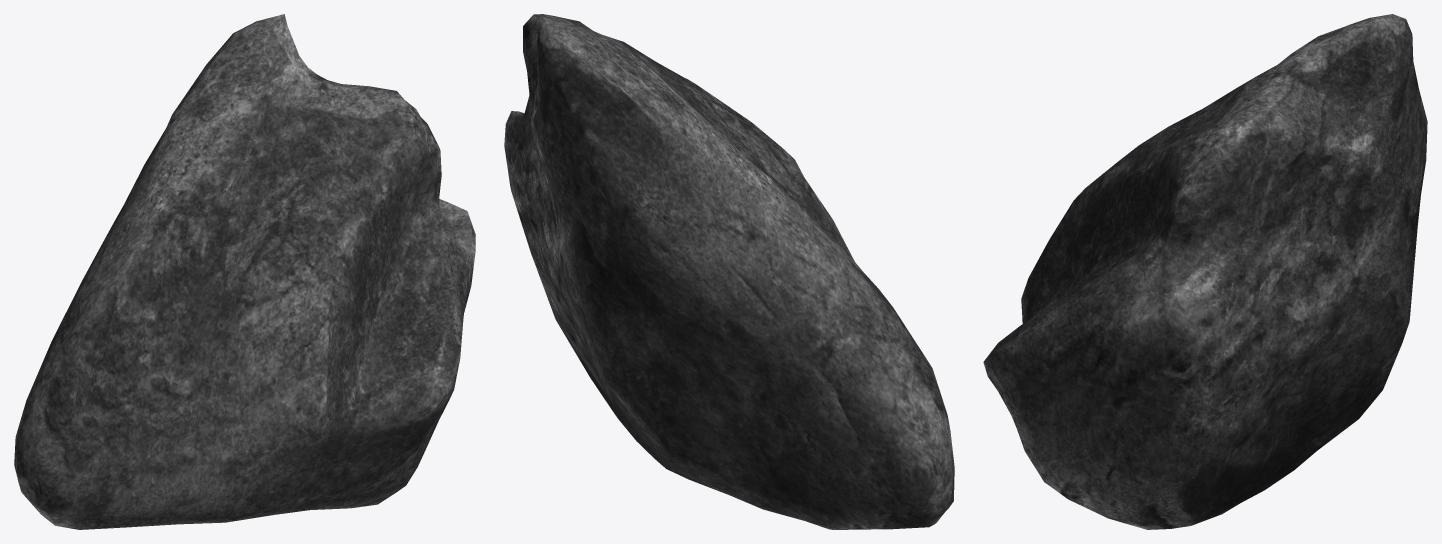
File: steinrock.glb
3 views of the same model, side by side, from view 1: azimuth 30°, elevation 25°; view 2: azimuth 150°, elevation 25°; view 3: azimuth 270°, elevation 25° (orthographic). The views are drawn at different scales.
Parts seen in each view (by area): view 1: SteinRock; view 2: SteinRock; view 3: SteinRock.
Part boxes in pixels (<box>): SteinRock: <box>14,14,475,529</box>; SteinRock: <box>504,14,954,529</box>; SteinRock: <box>983,14,1427,529</box>.
Size of the model in its own units: 1.37 by 1.33 by 1.02.
1 material, 1 textured.
